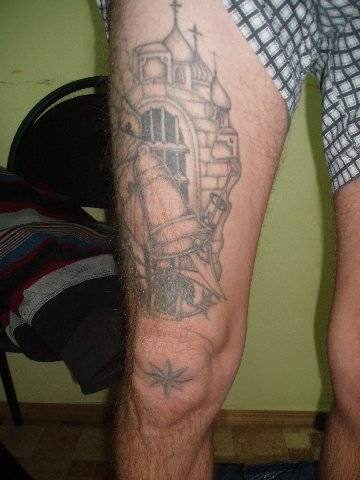tatu4_zvezda: (132, 352, 201, 407)
